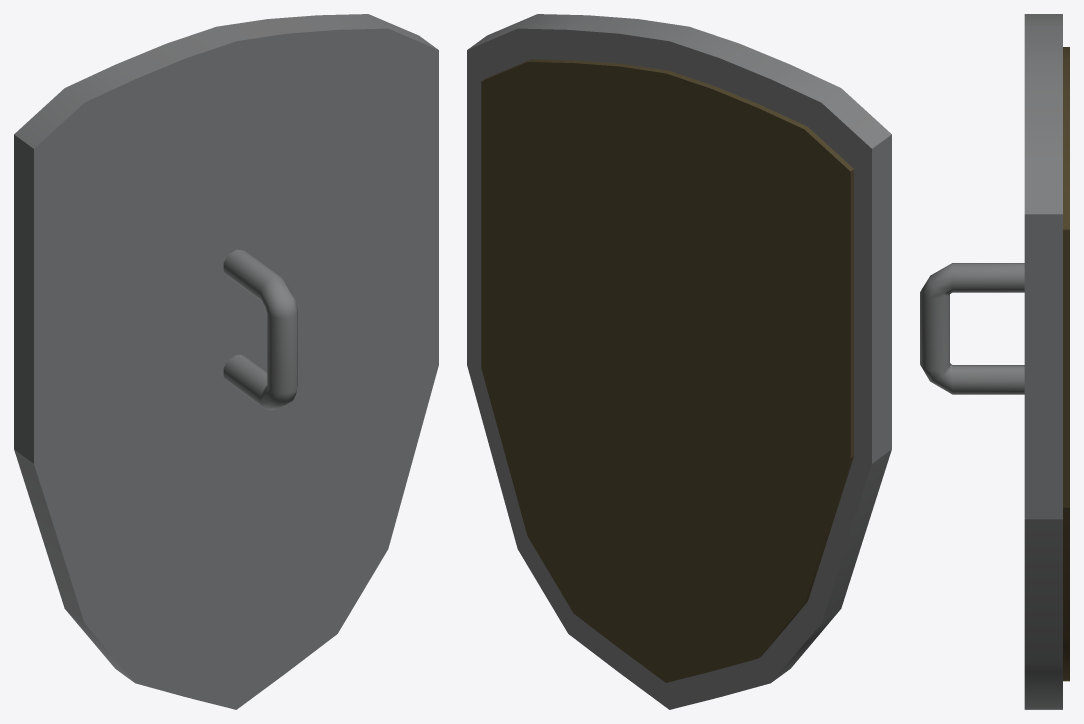
File: Xander_Shield_TEXTURED.fbx
3 renders of one model, left to right at view 1: azimuth 30°, elevation 25°; view 2: azimuth 150°, elevation 25°; view 3: azimuth 270°, elevation 25°, orthographic. The views are drawn at different scales.
Parts seen in each view (by area): view 1: pCube2; view 2: pCube2; view 3: pCube2.
Boxes of the visible parts, bbox=[...] form: pCube2: bbox=[14, 14, 438, 709]; pCube2: bbox=[467, 14, 891, 709]; pCube2: bbox=[920, 14, 1069, 709].
Bounding box in the file's own units: 5.32 × 8.4 × 1.76.
1 material, 1 textured.
